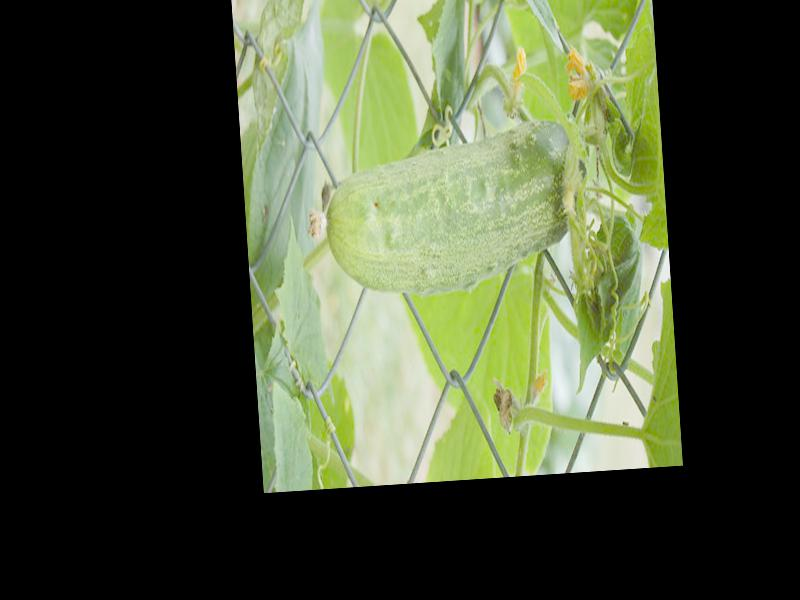Cucumber: (305, 122, 591, 297)
